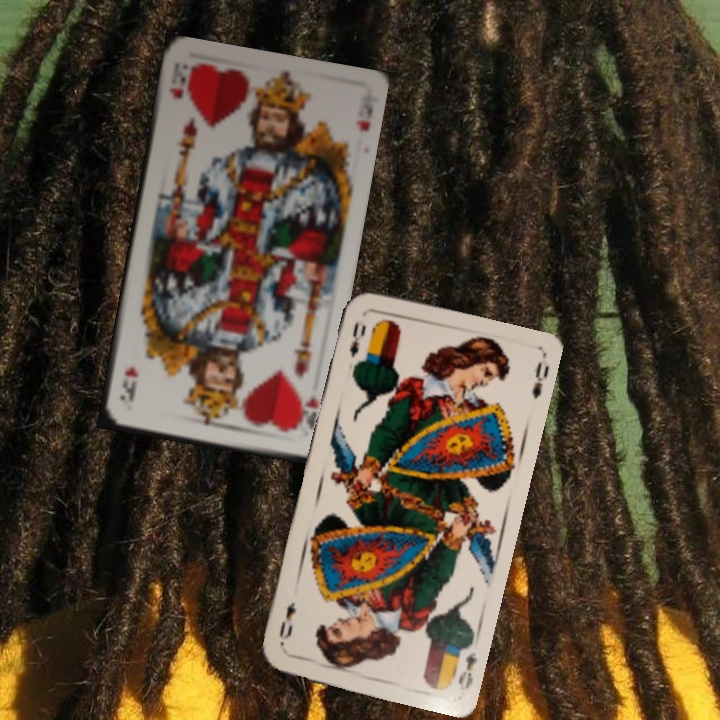EO: (454, 647, 480, 693), (345, 316, 369, 360)
HK: (292, 392, 321, 433), (165, 65, 189, 101)
